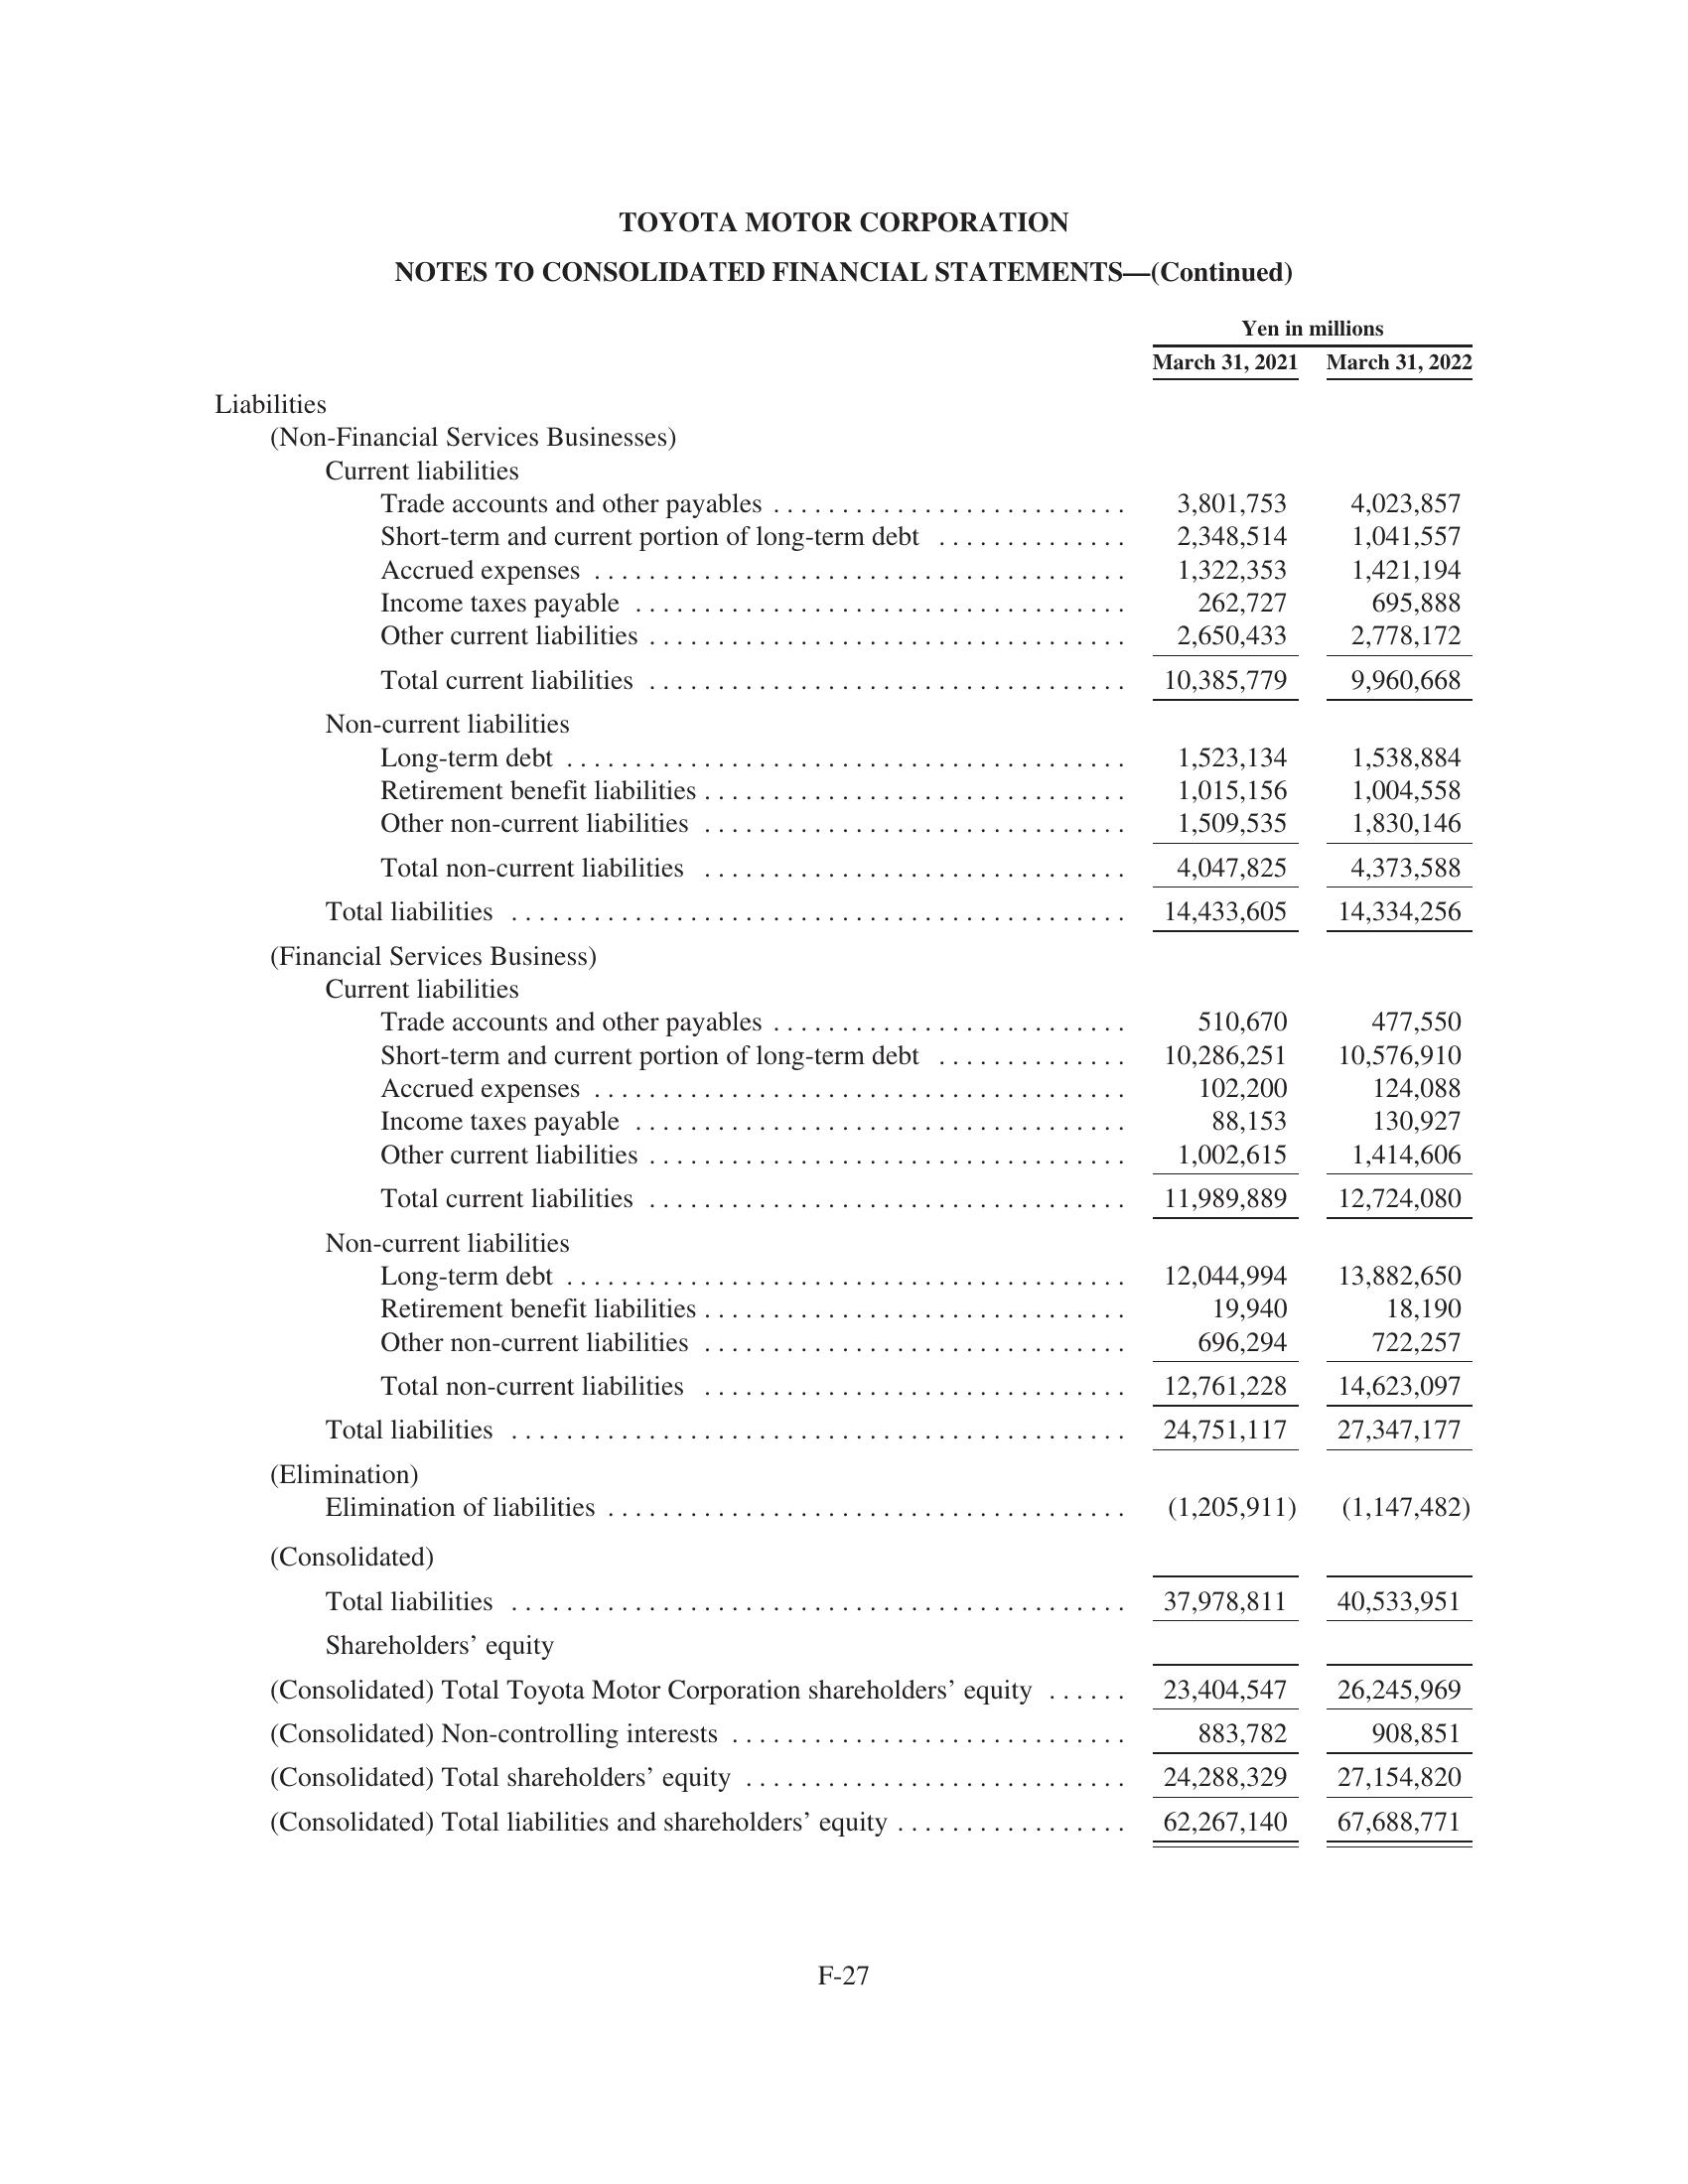Footer: (0, 1941, 1688, 2184)
Header: (0, 0, 1688, 179)
Table: (129, 298, 1512, 1860)
